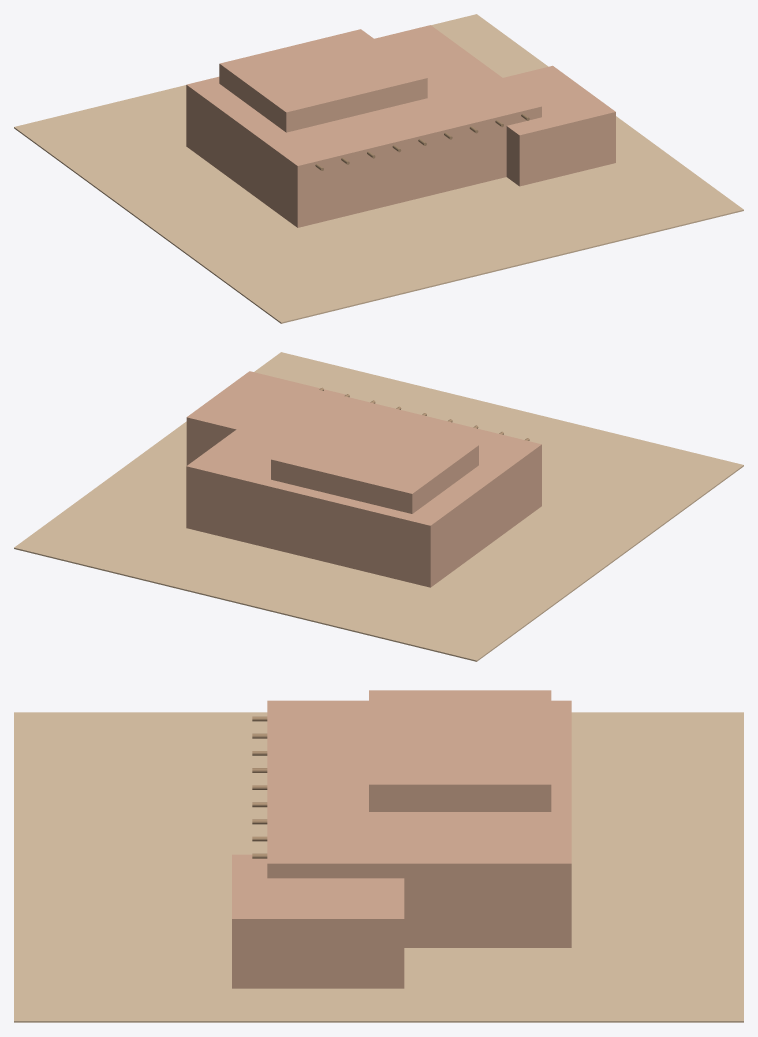
File: hank_marie_house.glb
The picture shows the model from 3 angles, top to bottom: view 1: azimuth 30°, elevation 25°; view 2: azimuth 150°, elevation 25°; view 3: azimuth 270°, elevation 25°; orthographic projection. The views are drawn at different scales.
Parts seen in each view (by area): view 1: Hank_Marie_House_lot, Hank_Marie_House_main, Hank_Marie_House_tier2, Hank_Marie_House_garage; view 2: Hank_Marie_House_lot, Hank_Marie_House_main, Hank_Marie_House_tier2, Hank_Marie_House_garage; view 3: Hank_Marie_House_lot, Hank_Marie_House_main, Hank_Marie_House_tier2, Hank_Marie_House_garage.
Boxes of the visible parts, x1,y1,x2,y2 form: Hank_Marie_House_lot: (14, 14, 743, 323); Hank_Marie_House_main: (186, 25, 541, 227); Hank_Marie_House_tier2: (219, 29, 427, 132); Hank_Marie_House_garage: (503, 65, 615, 186); Hank_Marie_House_lot: (14, 352, 743, 661); Hank_Marie_House_main: (186, 385, 541, 587); Hank_Marie_House_tier2: (271, 410, 478, 513); Hank_Marie_House_garage: (186, 371, 345, 465); Hank_Marie_House_lot: (14, 712, 743, 1022); Hank_Marie_House_main: (267, 700, 571, 947); Hank_Marie_House_tier2: (369, 690, 551, 811); Hank_Marie_House_garage: (232, 854, 404, 988).
Size of what is drawn, in the model's own units: 36 by 6.2 by 36.
